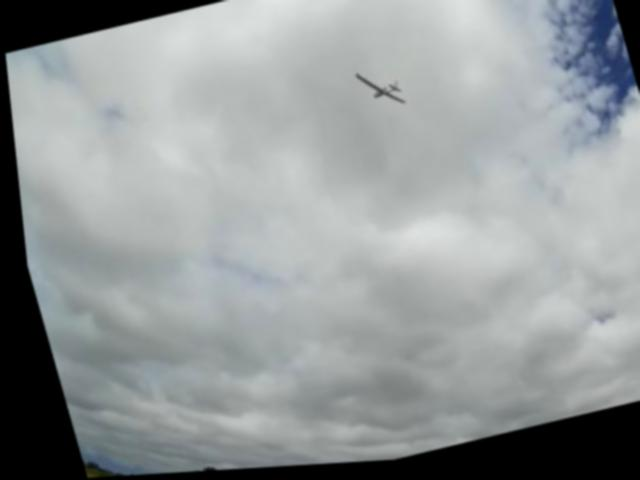uav: (343, 61, 410, 123)
